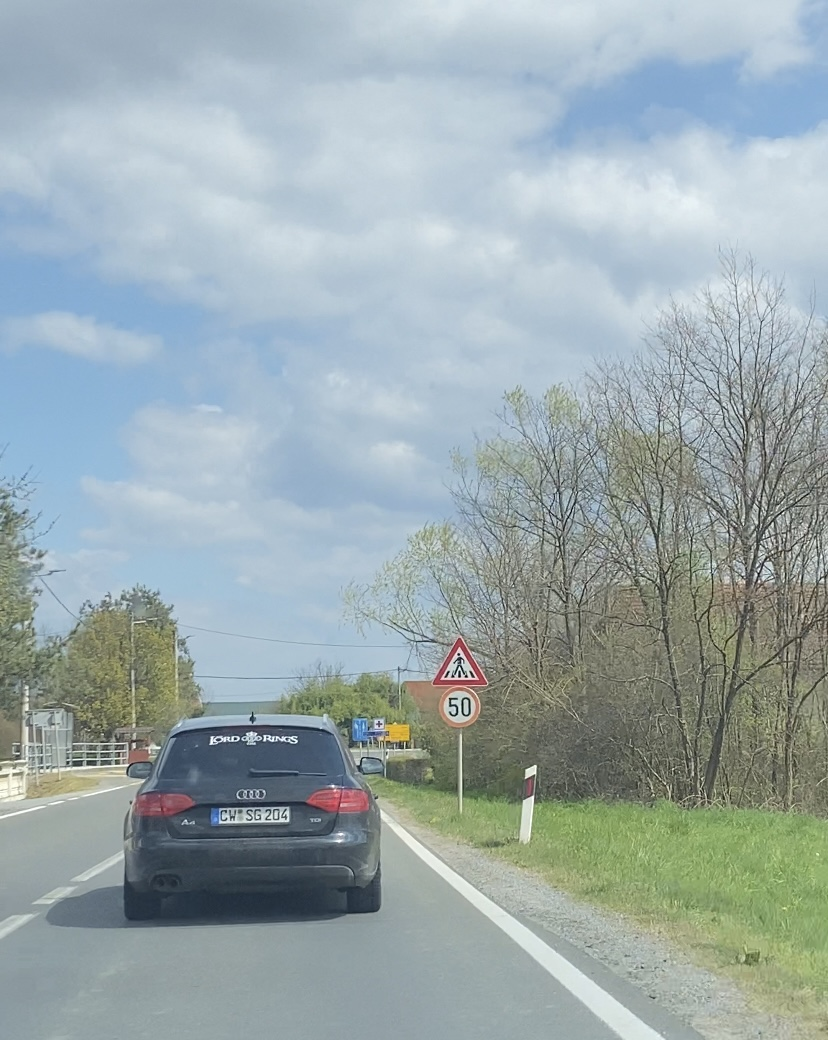Ograničenje brzine 50: (438, 687, 481, 728)
Približavanje pješačkom prijelazu: (432, 635, 488, 686)
